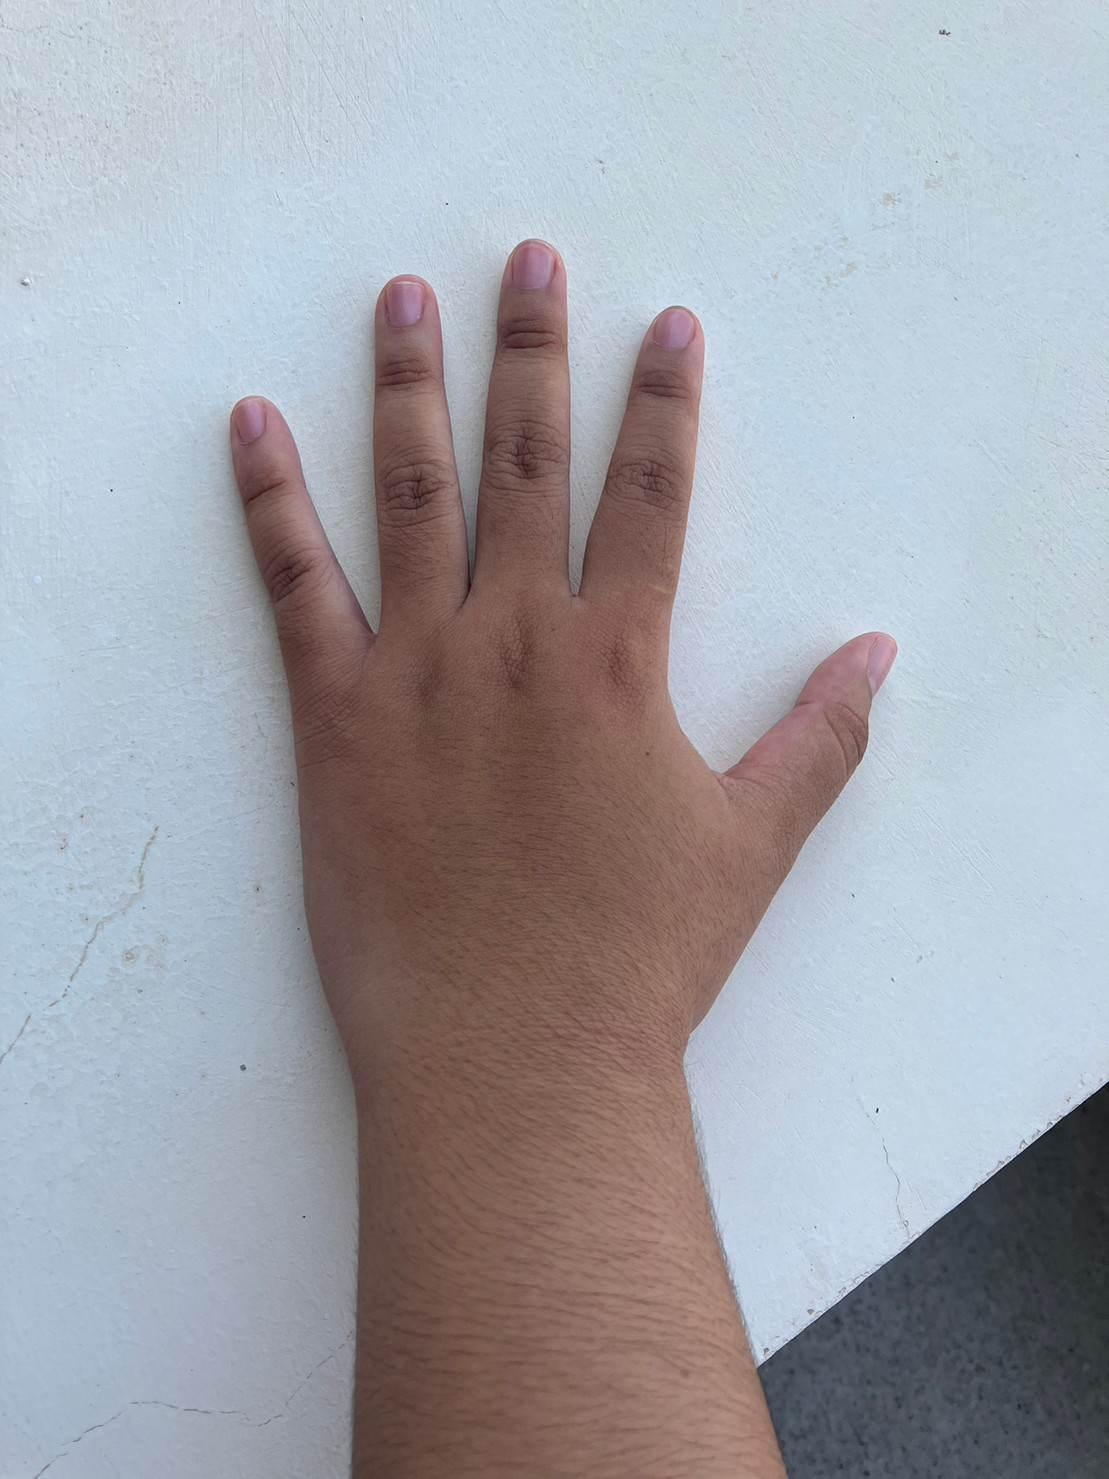hand: (218, 231, 903, 1028)
